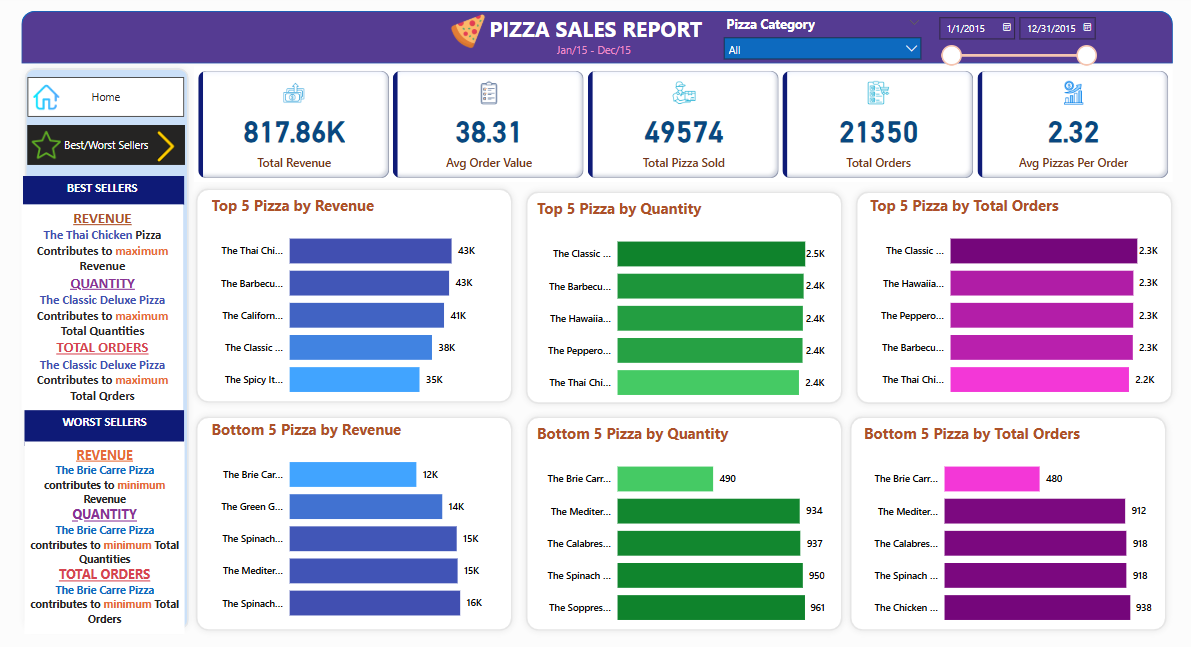

The page's visual inventory and layout, read from the dashboard file:
{"tool":"powerbi","page":{"name":"Best/Worst Sellers","canvas":[1500,820],"ordinal":1},"visuals":[{"type":"cardVisual","fields":{"Data":["pizza_sales.Total Revenue","pizza_sales.Avg Order Value","pizza_sales.Total Pizza Sold","pizza_sales.Total Orders","pizza_sales.Avg Pizzas Per Order"]},"box":[245.2,85.7,1231,145.2],"z":0},{"type":"shape","box":[28,14.9,1448,66],"z":1000},{"type":"textbox","box":[606,14,290,60],"z":2000},{"type":"textbox","box":[695.8,48.6,130.6,37.5],"z":3000},{"type":"image","box":[556,14,66,54],"z":4000},{"type":"shape","box":[240.5,231,414.3,285.7],"z":5000},{"type":"slicer","title":"Daily Trend for Total Orders","fields":{"Values":["pizza_sales.pizza_category"]},"box":[901.4,15.3,268.1,65.3],"z":6000},{"type":"shape","box":[24,80,222,722],"z":7000},{"type":"group","id":"g1","title":"Group 1","box":[31.5,221.8,202.4,36],"z":8000,"group":"g3"},{"type":"group","id":"g2","title":"Group 2","box":[32.7,516.4,201.8,281.8],"z":8000},{"type":"slicer","title":"Daily Trend for Total Orders","fields":{"Values":["pizza_sales.order_date"]},"box":[1169.4,13.9,219.4,72.2],"z":9000},{"type":"shape","box":[654.8,233.3,414.3,283.3],"z":10000},{"type":"shape","box":[1069,233.3,414.3,283.3],"z":11000},{"type":"shape","box":[240.5,516.7,414.3,285.7],"z":12000},{"type":"shape","box":[654.8,516.7,414.3,285.7],"z":13000},{"type":"shape","box":[1061.9,516.7,414.3,285.7],"z":14000},{"type":"barChart","title":"Top 5 Pizza by Revenue","fields":{"Category":["pizza_sales.pizza_name"],"Y":["pizza_sales.Total Revenue"]},"box":[261.9,247.6,361.9,269],"z":15000},{"type":"textbox","box":[31.5,221.8,202.4,36],"z":16000,"group":"g1"},{"type":"textbox","box":[33.6,516.4,201,44.8],"z":16000,"group":"g4"},{"type":"barChart","title":"Bottom 5 Pizza by Revenue","fields":{"Category":["pizza_sales.pizza_name"],"Y":["pizza_sales.Total Revenue"]},"box":[261.9,528.6,361.9,269],"z":16000},{"type":"barChart","title":"Top 5 Pizza by Quantity","fields":{"Category":["pizza_sales.pizza_name"],"Y":["pizza_sales.Total Pizza Sold"]},"box":[671.4,250,371.4,269],"z":17000},{"type":"textbox","box":[29.1,257.4,203.6,258.6],"z":17000,"group":"g3"},{"type":"textbox","box":[32.7,555.9,201.4,242.3],"z":17000,"group":"g4"},{"type":"barChart","title":"Bottom 5 Pizza by Quantity","fields":{"Category":["pizza_sales.pizza_name"],"Y":["pizza_sales.Total Pizza Sold"]},"box":[671.4,533.3,371.4,269],"z":18000},{"type":"barChart","title":"Top 5 Pizza by Total Orders","fields":{"Category":["pizza_sales.pizza_name"],"Y":["pizza_sales.Total Orders"]},"box":[1090.5,247.6,371.4,269],"z":19000},{"type":"barChart","title":"Bottom 5 Pizza by Total Orders","fields":{"Category":["pizza_sales.pizza_name"],"Y":["pizza_sales.Total Orders"]},"box":[1083.3,533.3,371.4,269],"z":20000},{"type":"group","id":"g3","title":"Group 4","box":[29.1,221.8,205.5,294.5],"z":21000},{"type":"group","id":"g4","title":"Group 3","box":[32.7,516.4,201.8,281.8],"z":21001,"group":"g2"},{"type":"pageNavigator","box":[35.1,98.7,197.4,50.6],"z":22000},{"type":"pageNavigator","box":[36.4,158.4,198.7,50.6],"z":23000},{"type":"image","box":[184.4,159.7,50.6,49.4],"z":24000},{"type":"image","box":[36.4,102.6,46.8,42.9],"z":25000},{"type":"image","box":[36.4,158.4,46.8,49.4],"z":26000}]}

Visuals, with their boxes in screenshot pixels (x1, y1, x2, y2), scaled from the page's 1500x820 canvas onto the 1191x647 screenshot:
cardVisual - pizza_sales.Total Revenue x pizza_sales.Avg Order Value: 195 68 1172 182
shape: 22 12 1172 64
textbox: 481 11 711 58
textbox: 552 38 656 68
image: 441 11 494 54
shape: 191 182 520 408
"Daily Trend for Total Orders" slicer: 716 12 929 64
shape: 19 63 195 633
"Group 1" group: 25 175 186 203
"Group 2" group: 26 407 186 630
"Daily Trend for Total Orders" slicer: 929 11 1103 68
shape: 520 184 849 408
shape: 849 184 1178 408
shape: 191 408 520 633
shape: 520 408 849 633
shape: 843 408 1172 633
"Top 5 Pizza by Revenue" barChart: 208 195 495 408
textbox: 25 175 186 203
textbox: 27 407 186 443
"Bottom 5 Pizza by Revenue" barChart: 208 417 495 629
"Top 5 Pizza by Quantity" barChart: 533 197 828 410
textbox: 23 203 185 407
textbox: 26 439 186 630
"Bottom 5 Pizza by Quantity" barChart: 533 421 828 633
"Top 5 Pizza by Total Orders" barChart: 866 195 1161 408
"Bottom 5 Pizza by Total Orders" barChart: 860 421 1155 633
"Group 4" group: 23 175 186 407
"Group 3" group: 26 407 186 630
pageNavigator: 28 78 185 118
pageNavigator: 29 125 187 165
image: 146 126 187 165
image: 29 81 66 115
image: 29 125 66 164
